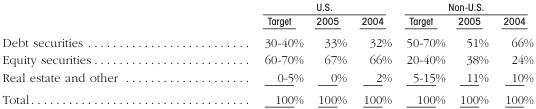table: (1, 0, 532, 105)
table column: (1, 0, 256, 105), (256, 0, 309, 105), (398, 0, 450, 105), (353, 0, 398, 105), (450, 0, 495, 105), (309, 0, 353, 105), (495, 0, 532, 105)
table column header: (1, 0, 532, 30)
table row: (1, 30, 532, 50), (1, 68, 532, 88), (1, 50, 532, 68), (1, 13, 532, 30), (1, 88, 532, 105), (1, 0, 532, 13)
table spanning cell: (256, 0, 398, 13), (398, 0, 532, 13)
